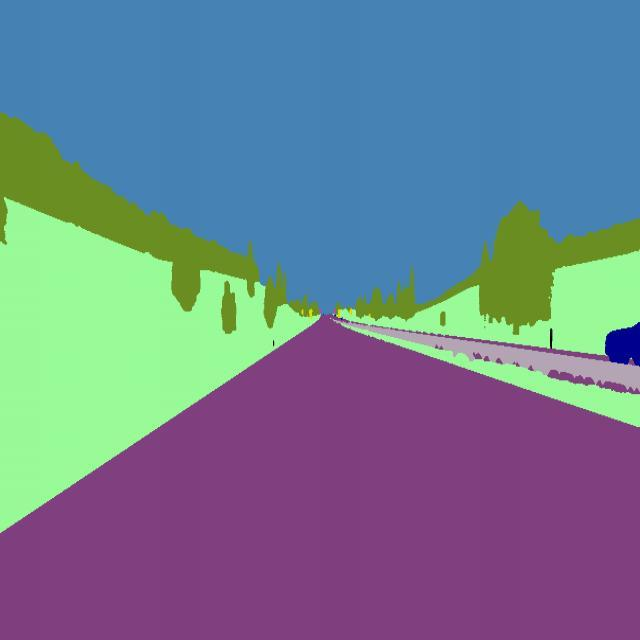safe: (605, 316, 640, 368)
